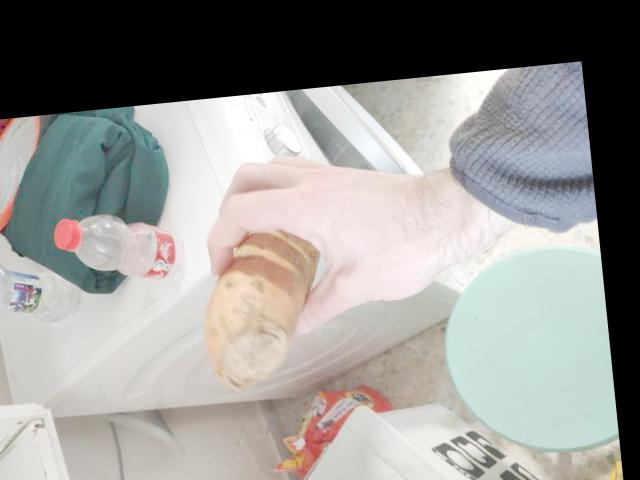sweet_potato: (194, 230, 325, 360)
